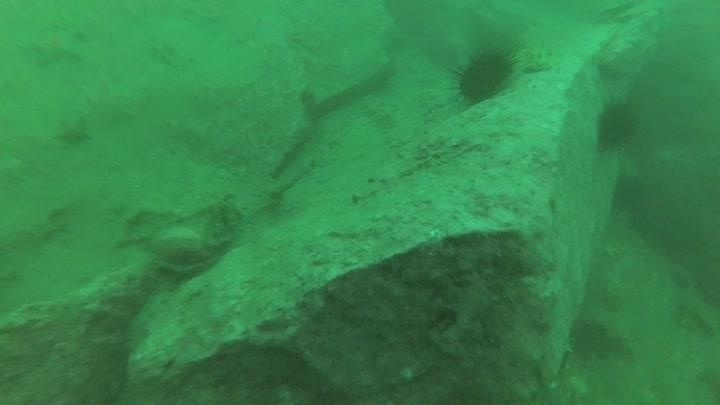echinus: (448, 43, 521, 108), (593, 96, 642, 154)
holothurian: (523, 42, 563, 80), (359, 95, 399, 132)
starfish: (19, 22, 86, 69), (53, 114, 95, 150)
